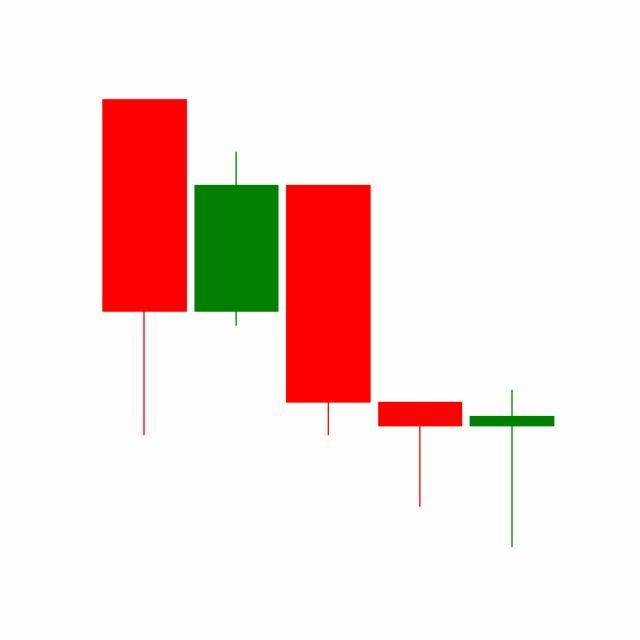Spinning Top: (466, 389, 559, 550)
